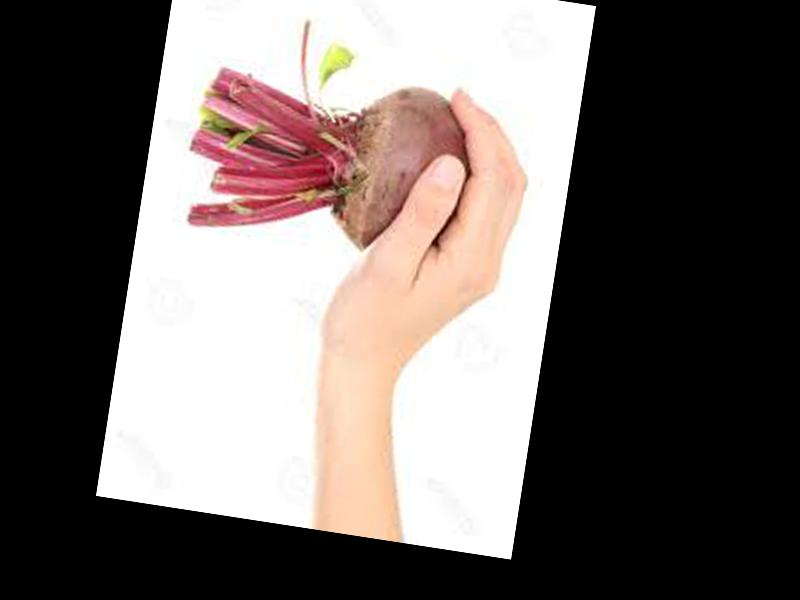Beet: (179, 4, 490, 264)
